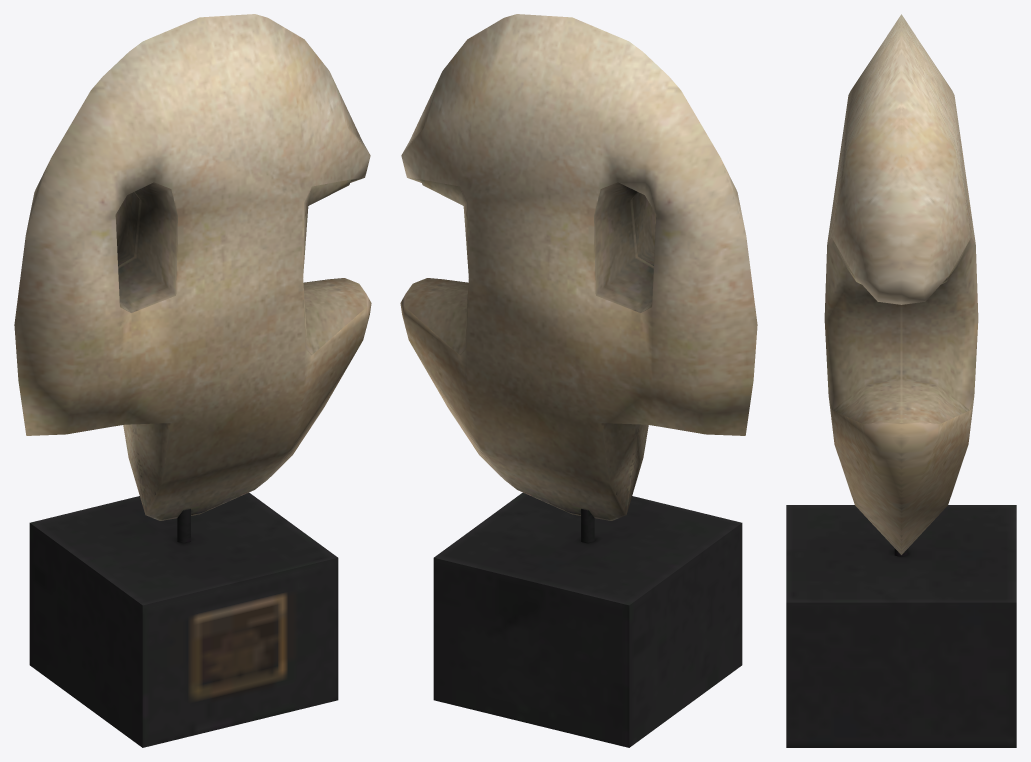
Rendered from dub_decorative_statue1_lod0.glb.
The picture shows the model from 3 angles, left to right: view 1: azimuth 30°, elevation 25°; view 2: azimuth 150°, elevation 25°; view 3: azimuth 270°, elevation 25°; orthographic projection. The views are drawn at different scales.
Parts seen in each view (by area): view 1: surf0, surf1; view 2: surf0, surf1; view 3: surf0, surf1.
Part boxes in pixels (bbox=[...]): surf0: bbox=[14, 14, 371, 520]; surf1: bbox=[29, 492, 338, 747]; surf0: bbox=[400, 14, 757, 520]; surf1: bbox=[433, 492, 742, 747]; surf0: bbox=[824, 14, 978, 554]; surf1: bbox=[786, 505, 1016, 747].
Bounding box in the file's own units: 16.9 × 30.53 × 9.44.
